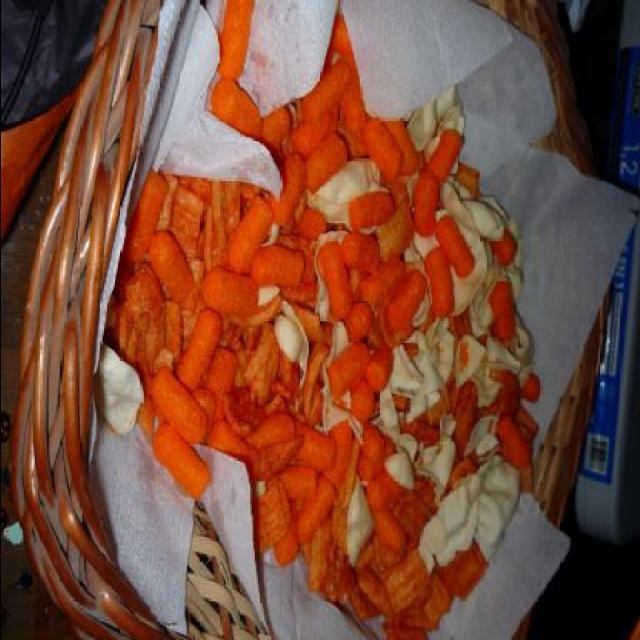Carrot: (140, 380, 208, 462)
